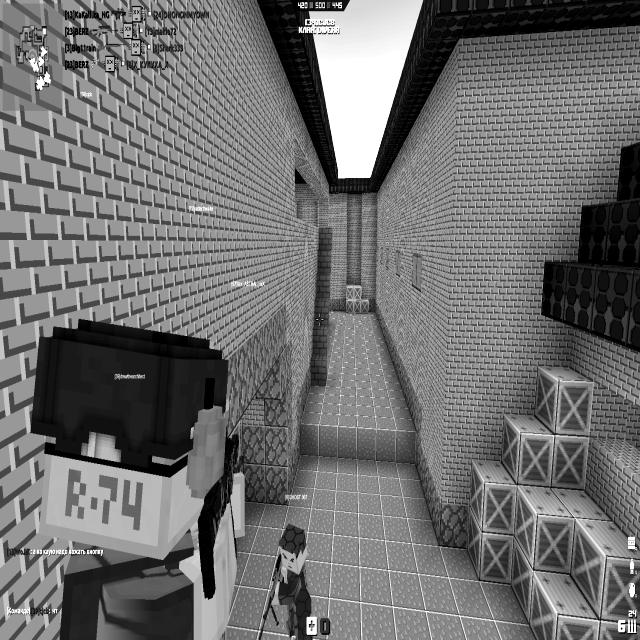Head: (30, 318, 228, 557), (278, 524, 307, 576)
Player: (28, 311, 246, 640), (274, 521, 312, 640)
